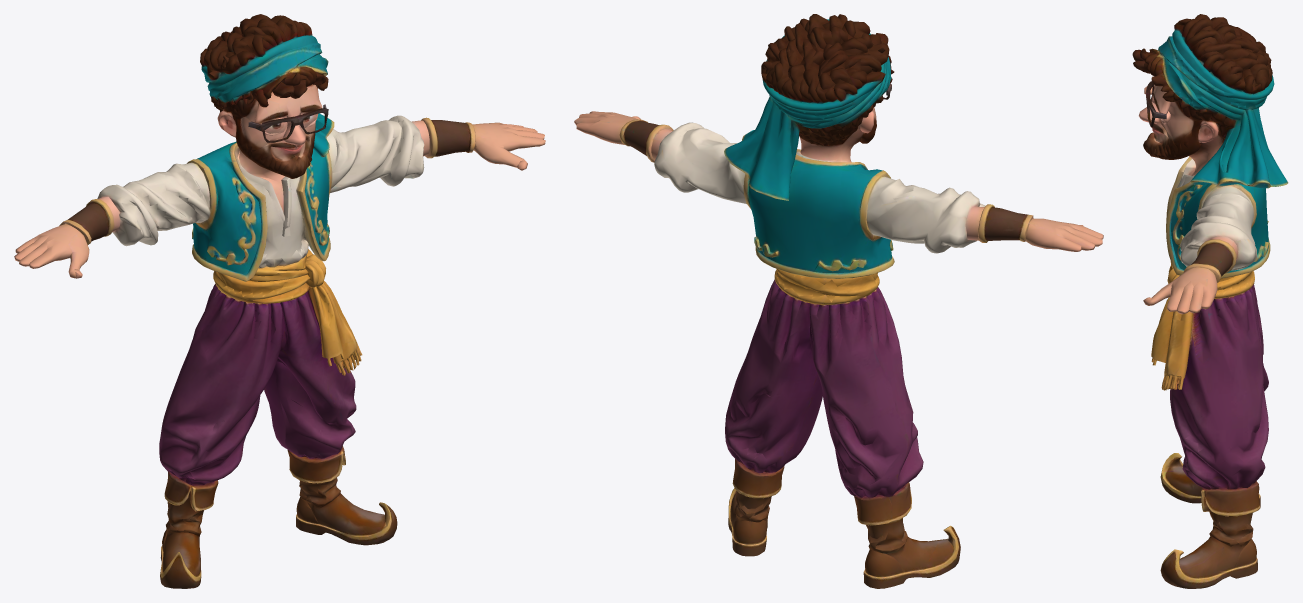
The model's file is charCarpetRider.glb.
3 views of the same model, side by side, from view 1: azimuth 30°, elevation 25°; view 2: azimuth 150°, elevation 25°; view 3: azimuth 270°, elevation 25° (orthographic). The views are drawn at different scales.
Parts seen in each view (by area): view 1: model; view 2: model; view 3: model.
Part boxes in pixels (left/top/right/bottom): model: left=14, top=14, right=545, bottom=588; model: left=574, top=14, right=1103, bottom=588; model: left=1132, top=14, right=1288, bottom=588.
Bounding box in the file's own units: 1.9 × 1.86 × 0.5056.
1 material, 1 textured.
